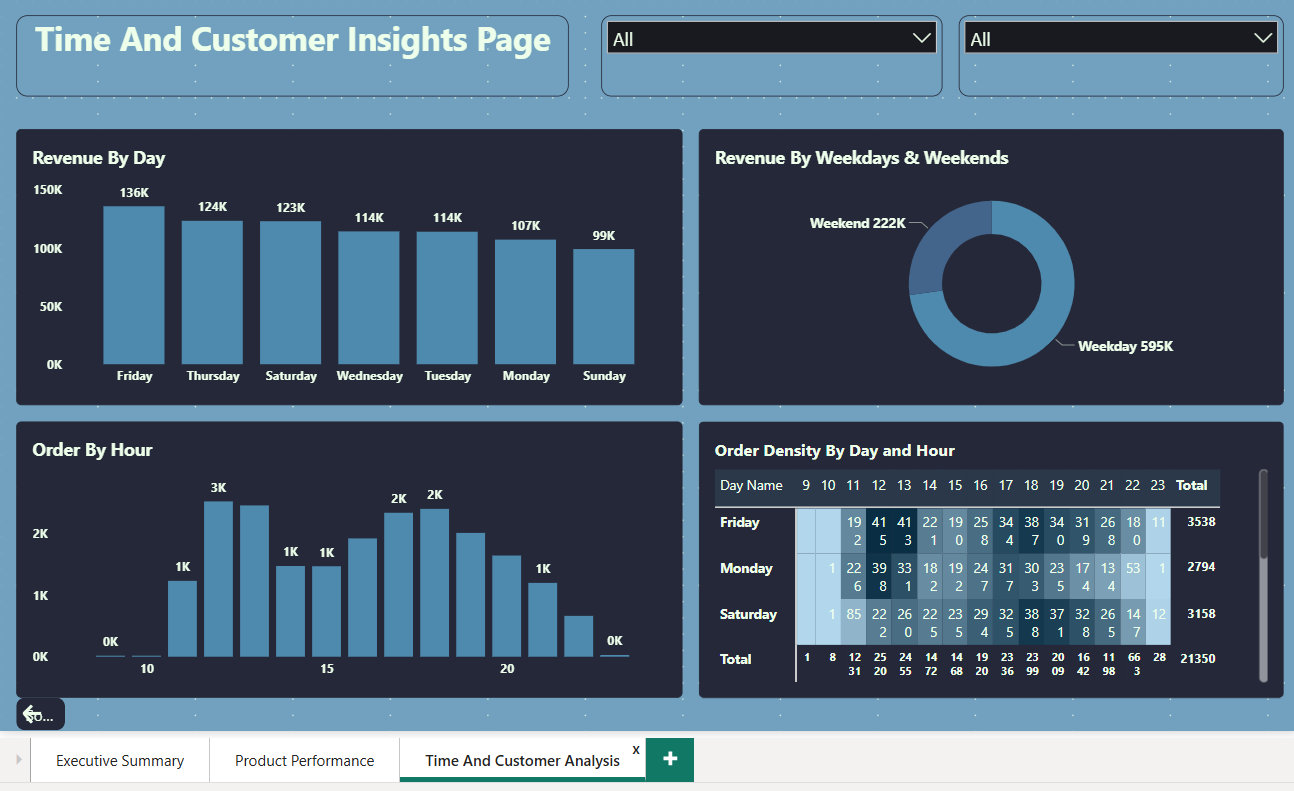

The dashboard page shown, as its layout file describes it:
{"tool":"powerbi","page":{"name":"Time And Customer Analysis","canvas":[1280,720],"ordinal":2},"visuals":[{"type":"textbox","box":[16,16,544,80],"z":0},{"type":"columnChart","title":"Revenue By Day ","fields":{"Y":["pizza_sales.Total_revenue"],"Category":["pizza_sales.Day Name"]},"box":[16,128,656,272],"z":1000},{"type":"columnChart","title":"Order By Hour","fields":{"Category":["pizza_sales.Hour"],"Y":["pizza_sales.total_order"]},"box":[16,416,656,272],"z":2000},{"type":"donutChart","title":"Revenue By Weekdays & Weekends","fields":{"Category":["pizza_sales.Day Type"],"Y":["pizza_sales.Total_revenue"]},"box":[688,128,576,272],"z":3000},{"type":"pivotTable","title":"Order Density By Day and Hour","fields":{"Rows":["pizza_sales.Day Name"],"Columns":["pizza_sales.Hour"],"Values":["pizza_sales.total_order"]},"box":[688,416,576,272],"z":4000},{"type":"slicer","fields":{"Values":["pizza_sales.Month Name"]},"box":[592,16,336,80],"z":5000},{"type":"slicer","fields":{"Values":["pizza_sales.pizza_category"]},"box":[944,16,320,80],"z":6000},{"type":"actionButton","box":[16,688,48,32],"z":7000}]}

Visuals, with their boxes on the page's 1280x720 design canvas (x1, y1, x2, y2). These are canvas units, not pixel positions in the 1294x791 screenshot, which may show the page scaled, cropped or inside an application window:
textbox: [16,16,560,96]
"Revenue By Day " columnChart: [16,128,672,400]
"Order By Hour" columnChart: [16,416,672,688]
"Revenue By Weekdays & Weekends" donutChart: [688,128,1264,400]
"Order Density By Day and Hour" pivotTable: [688,416,1264,688]
slicer - pizza_sales.Month Name: [592,16,928,96]
slicer - pizza_sales.pizza_category: [944,16,1264,96]
actionButton: [16,688,64,720]
